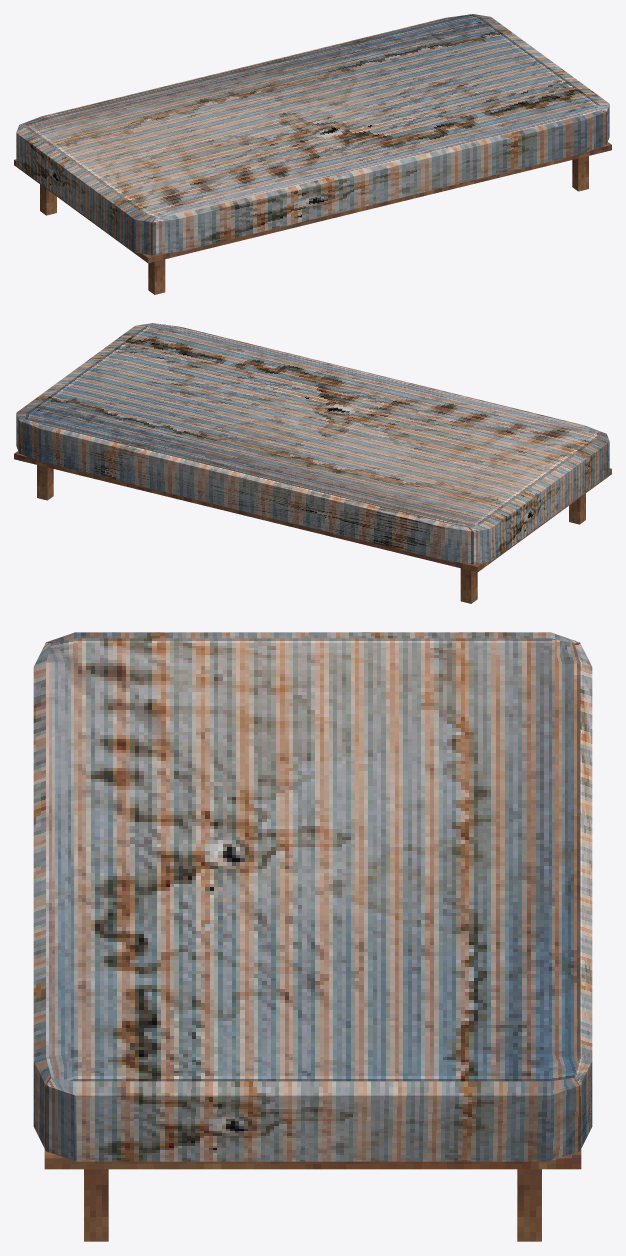
Rendered from bed.glb.
3 views of the same model, one above another, from view 1: azimuth 30°, elevation 25°; view 2: azimuth 150°, elevation 25°; view 3: azimuth 270°, elevation 25° (orthographic). The views are drawn at different scales.
Parts seen in each view (by area): view 1: Bed; view 2: Bed; view 3: Bed.
Part boxes in pixels (x1,y1,x2,y2): Bed: (14,14,611,294); Bed: (14,323,611,603); Bed: (33,632,592,1241).
Size of the model in its own units: 3.25 by 0.5564 by 1.66.
2 materials, 2 textured.
